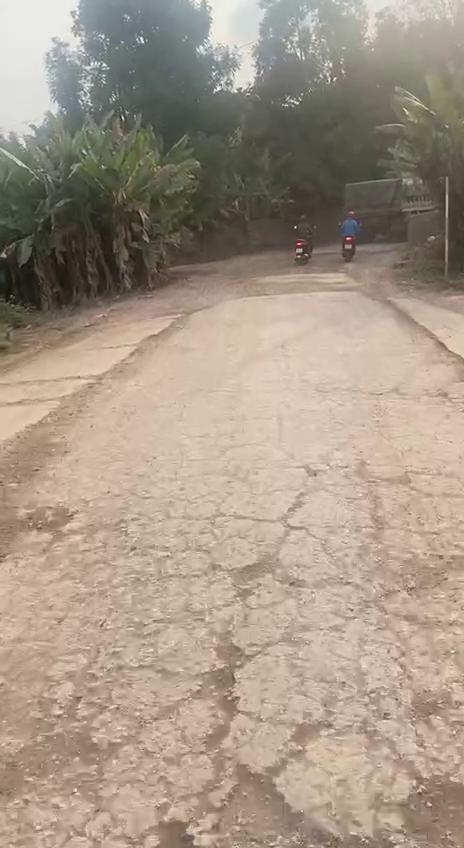pothole: (129, 741, 464, 848), (224, 544, 292, 603)
